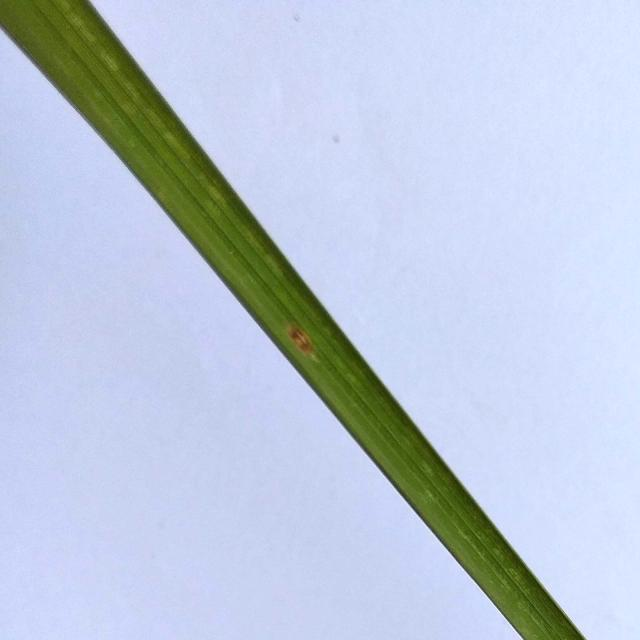Leaf blast: (0, 0, 588, 640)
